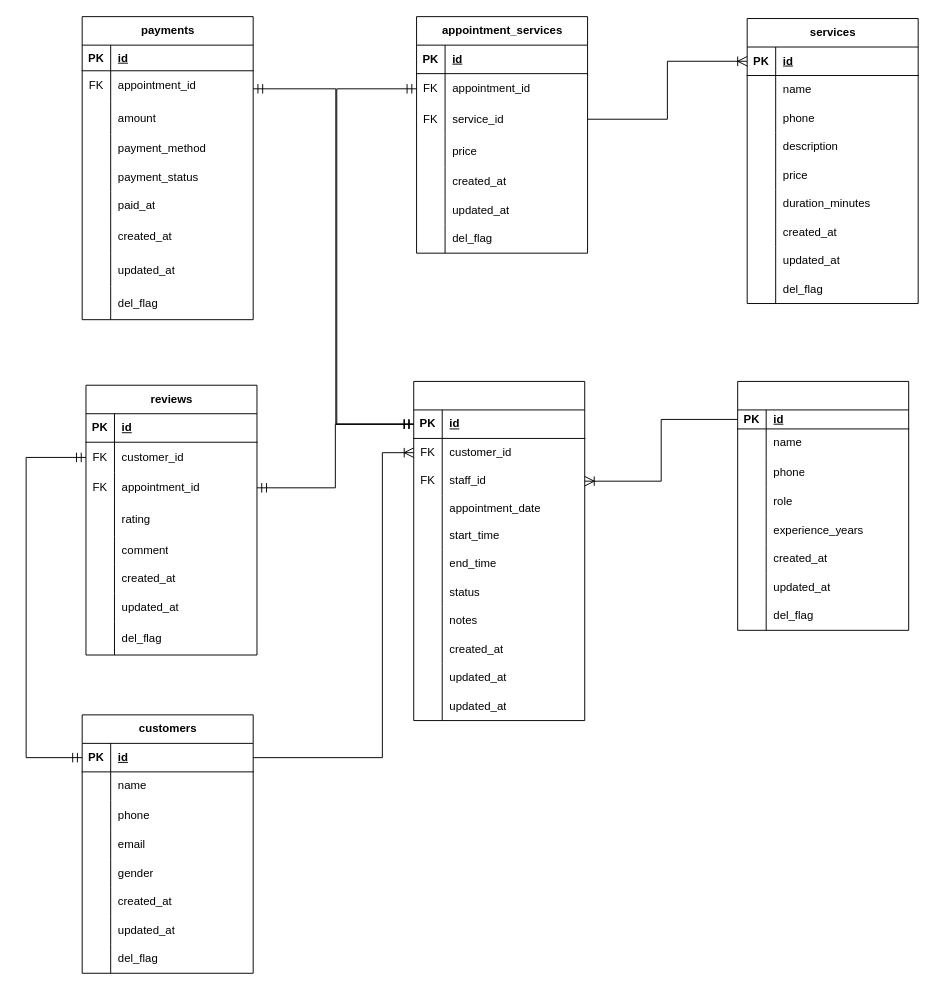
The diagram is 935 pixels wide and 990 high, and some of its shapes have lost their labels. The shapes that lost their labels are listed below. From the top down, each one's box as (x1, y1, x2, y2) in pixels, then its label:
(737, 380, 909, 630): staffs
(413, 380, 585, 721): appointments
